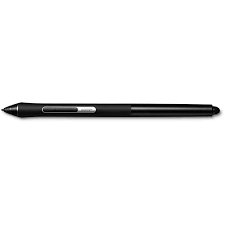qillqana: (1, 101, 221, 120)
